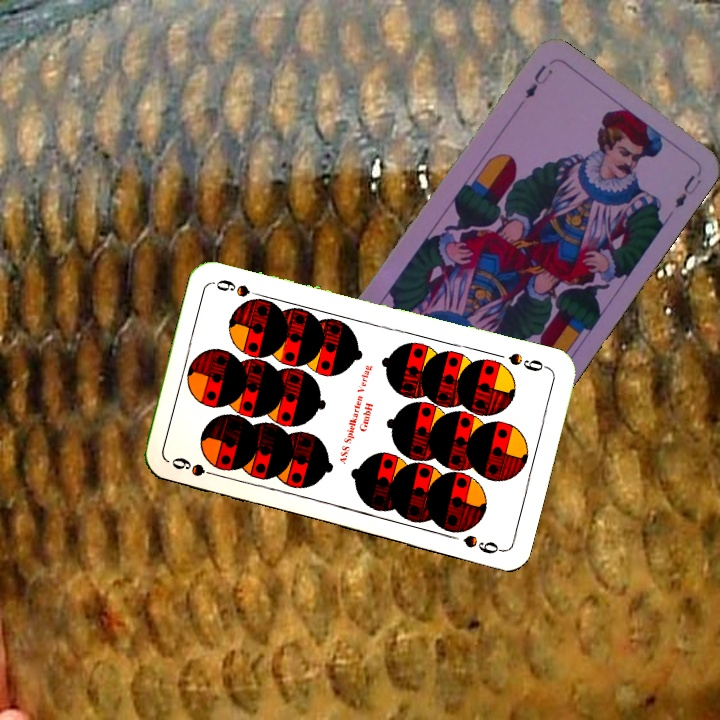EU: (520, 60, 556, 102)
S9: (167, 453, 225, 480), (504, 349, 552, 374)
